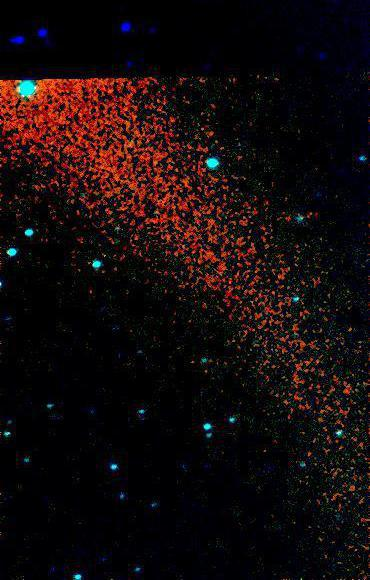star: (284, 464, 314, 494)
